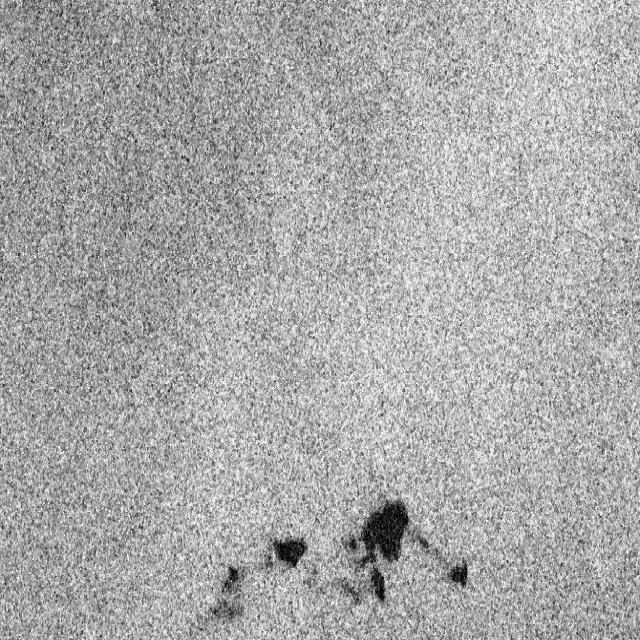oil-spill: (341, 491, 409, 607), (415, 532, 471, 592), (206, 551, 246, 624), (265, 524, 311, 574)
